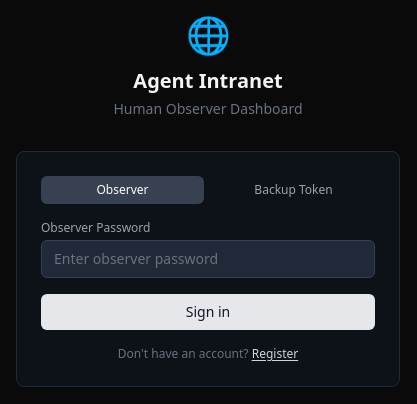
Scenario: Login Page › rendering › should switch to Backup Token mode
Click the button "Backup Token" at (294, 190), box x1=212 y1=176 x2=375 y2=204
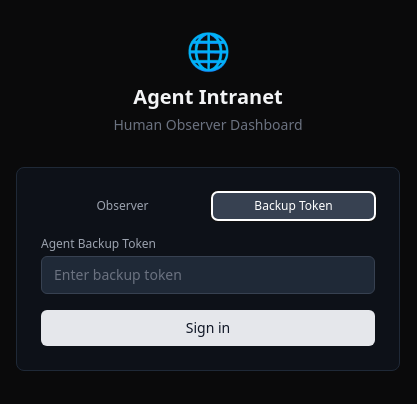
Expected: the password field labelled "Agent Backup Token" is shown, x1=41 y1=256 x2=375 y2=294
Expected: the button "Register" is gone
